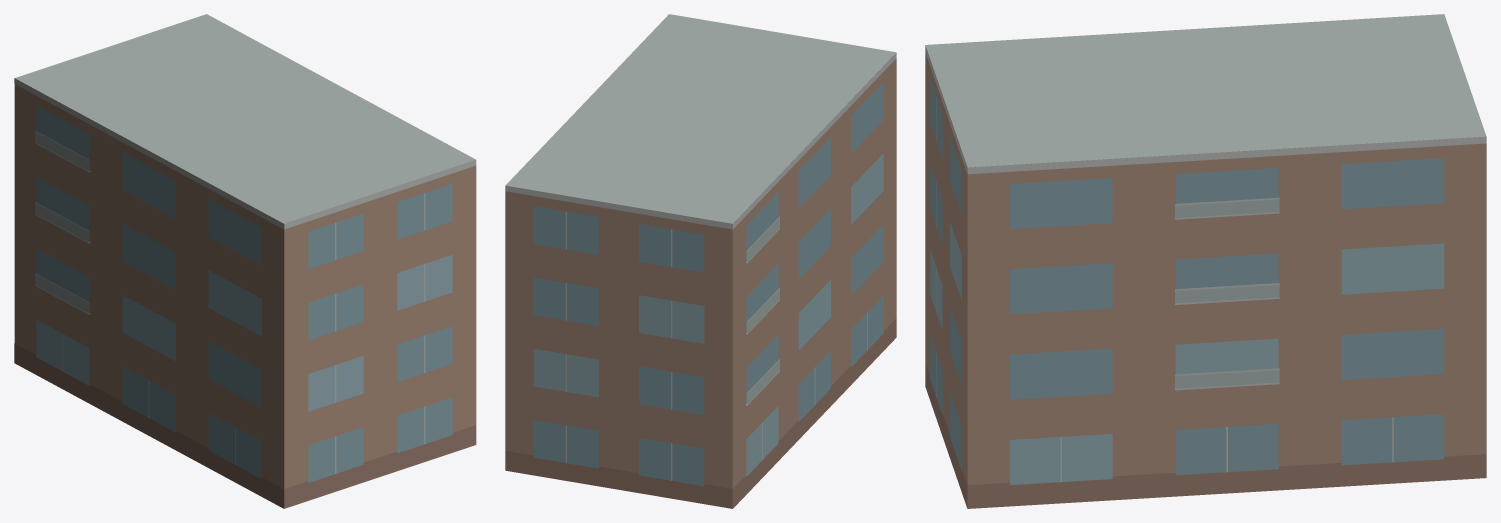
The model's file is survey-upis-32699444.glb.
3 views of the same model, side by side, from view 1: azimuth 30°, elevation 25°; view 2: azimuth 150°, elevation 25°; view 3: azimuth 270°, elevation 25° (orthographic). The views are drawn at different scales.
Parts seen in each view (by area): view 1: survey-upis-32699444.tmp; view 2: survey-upis-32699444.tmp; view 3: survey-upis-32699444.tmp.
Boxes of the visible parts, x1=… form: survey-upis-32699444.tmp: x1=14, y1=14, x2=476, y2=508; survey-upis-32699444.tmp: x1=505, y1=14, x2=896, y2=508; survey-upis-32699444.tmp: x1=925, y1=14, x2=1486, y2=508.
Size of the model in its own units: 11.78 by 12.2 by 18.19.
